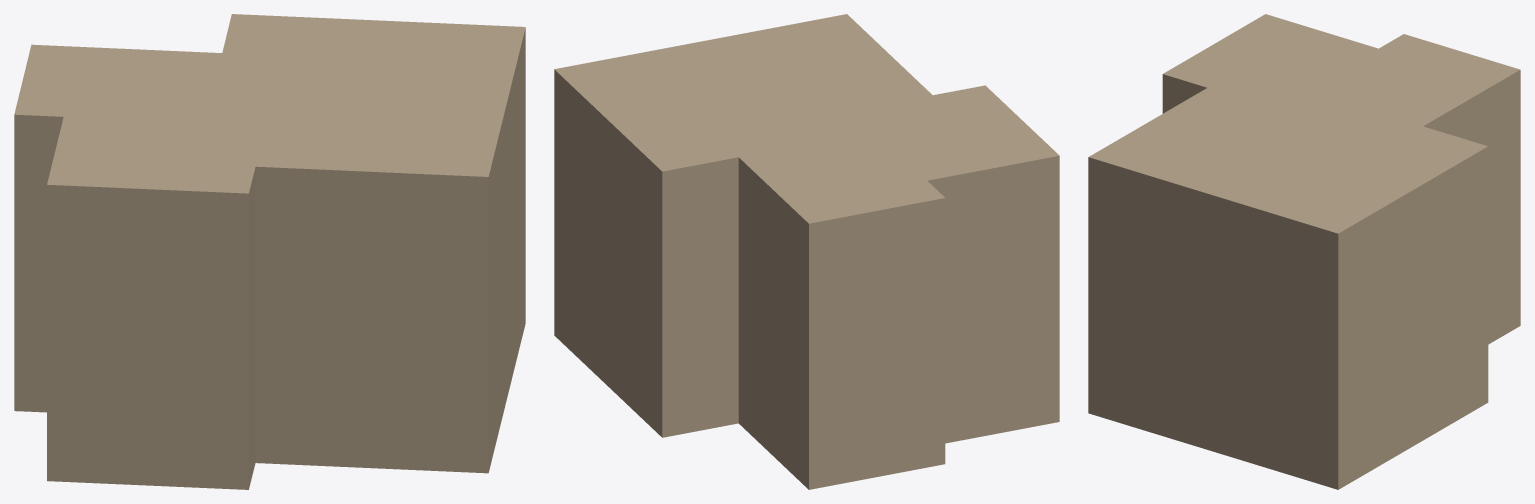
Rendered from bld_99531942.dae.
The picture shows the model from 3 angles, left to right: view 1: azimuth 30°, elevation 25°; view 2: azimuth 150°, elevation 25°; view 3: azimuth 270°, elevation 25°; orthographic projection. The views are drawn at different scales.
Parts seen in each view (by area): view 1: bld_99531942; view 2: bld_99531942; view 3: bld_99531942.
Part boxes in pixels (box(x1,y1,x2,y2)): bld_99531942: box(14, 14, 525, 489); bld_99531942: box(554, 14, 1059, 489); bld_99531942: box(1088, 14, 1520, 489).
Size of the model in its own units: 14.71 by 12.23 by 8.
